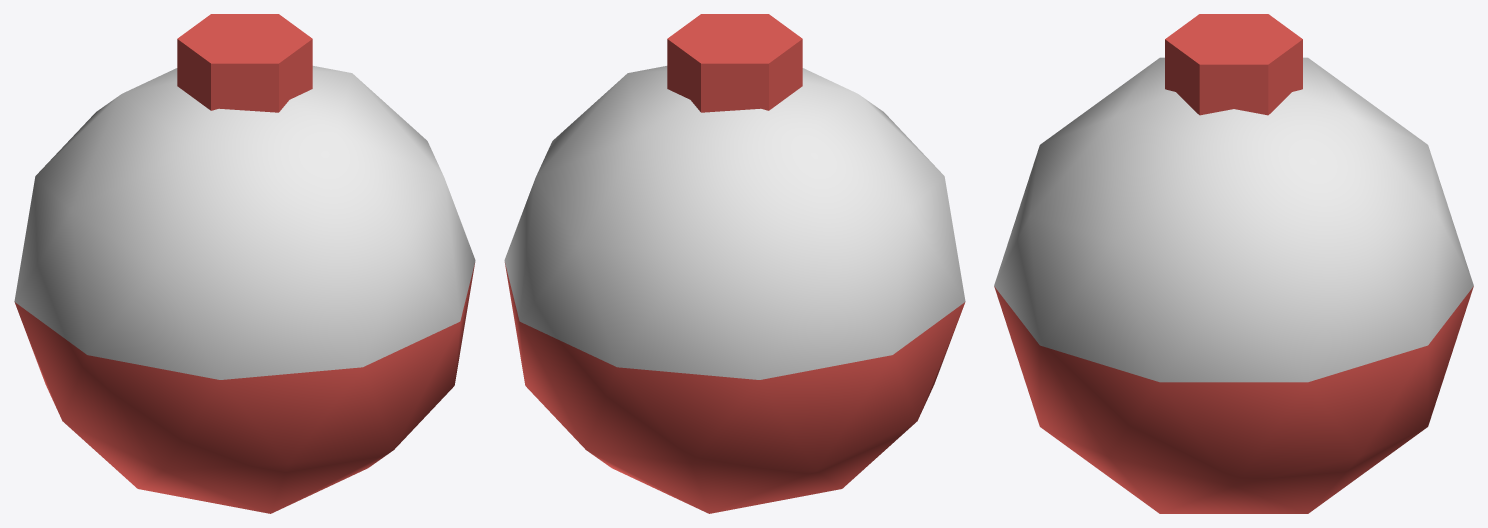
The model's file is bobber.glb.
The picture shows the model from 3 angles, left to right: view 1: azimuth 30°, elevation 25°; view 2: azimuth 150°, elevation 25°; view 3: azimuth 270°, elevation 25°; orthographic projection.
Visible parts, largest first — view 1: Icosphere; view 2: Icosphere; view 3: Icosphere.
Boxes of the visible parts, x1,y1,x2,y2 form: Icosphere: [14, 14, 475, 513]; Icosphere: [504, 14, 965, 513]; Icosphere: [994, 14, 1473, 513].
Bounding box in the file's own units: 0.1997 × 0.2241 × 0.21.
